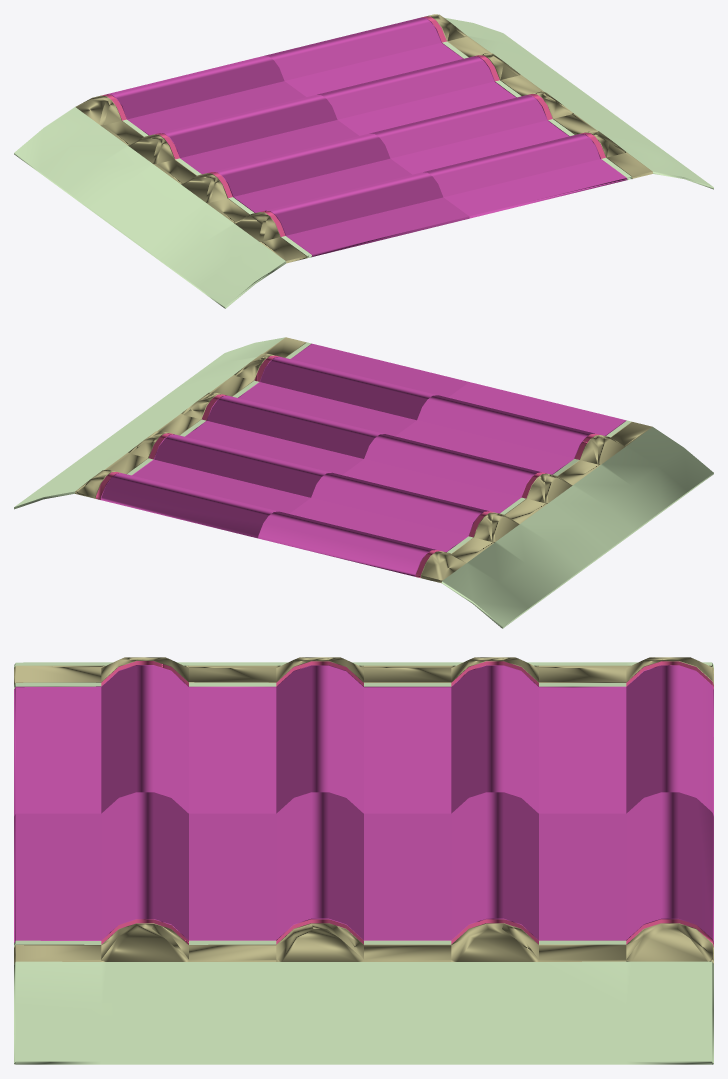
The model's file is RaceTrack_clean_deluxe_prop_uee_17.glb.
3 renders of one model, top to bottom at view 1: azimuth 30°, elevation 25°; view 2: azimuth 150°, elevation 25°; view 3: azimuth 270°, elevation 25°, orthographic. The views are drawn at different scales.
Size of the model in its own units: 8 by 0.7119 by 6.
